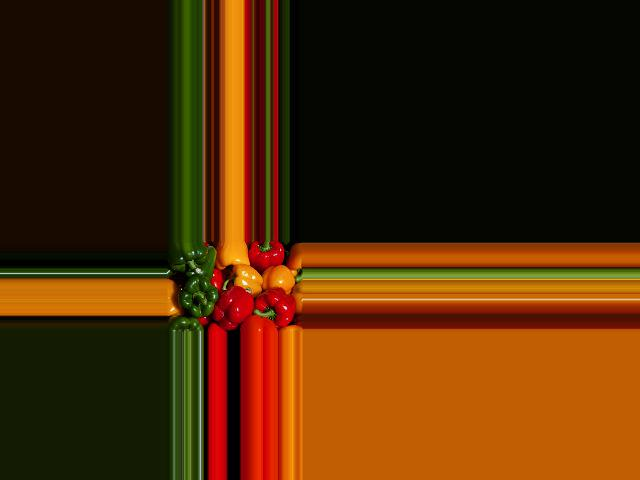bell_pepper: (167, 311, 204, 332)
